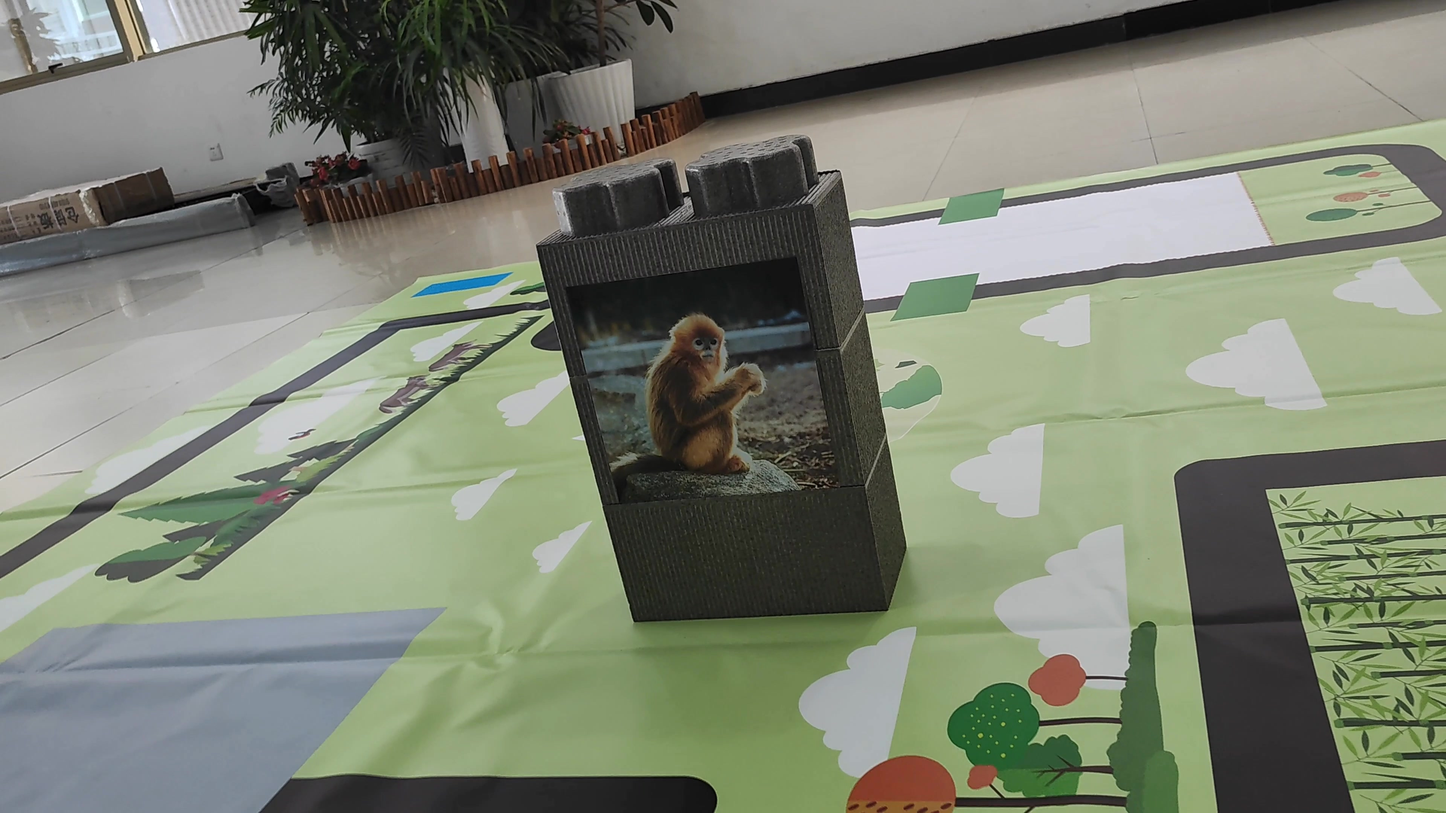monkey: (601, 292, 797, 497)
